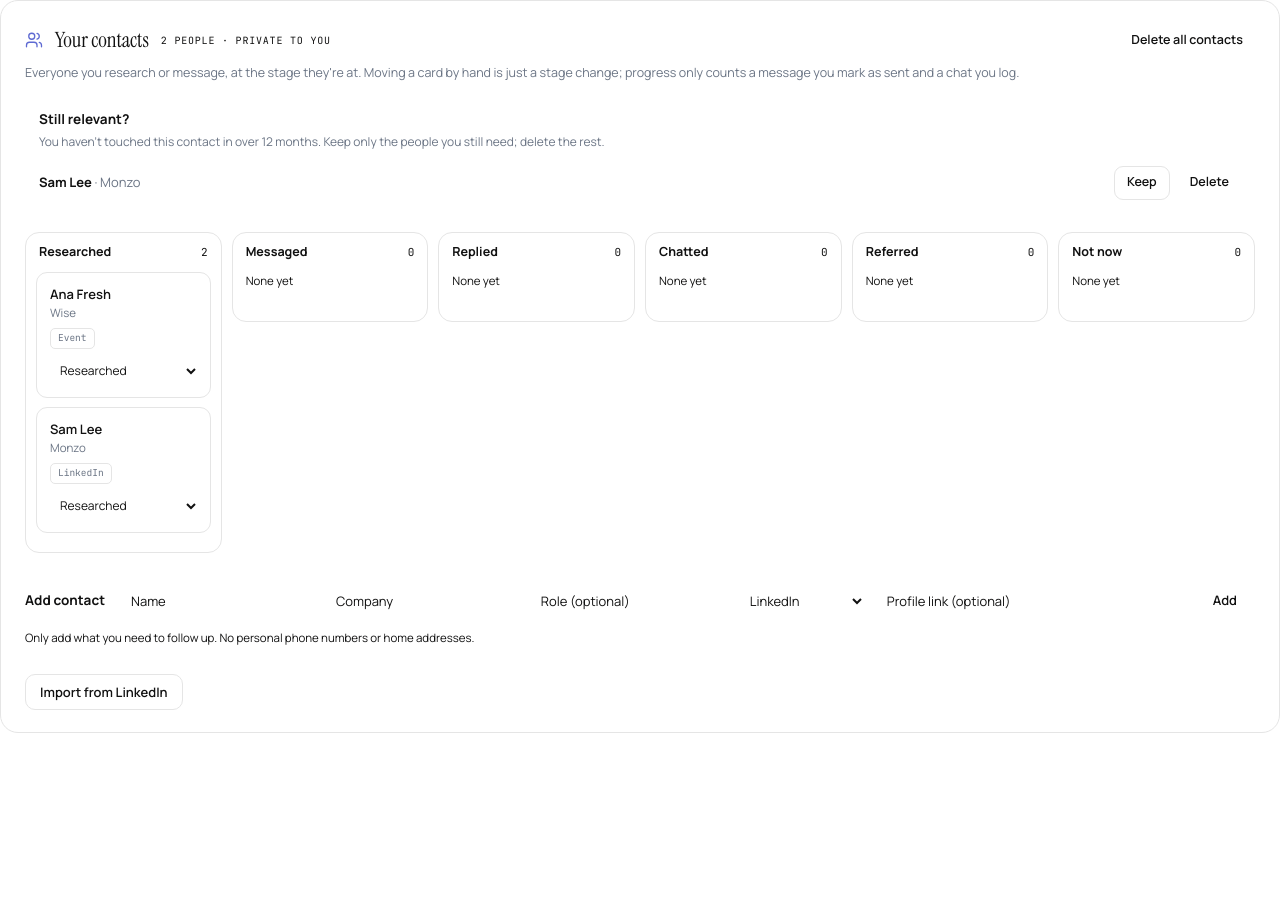
Test: Still relevant? card › Keep bumps updatedAt, changes nothing else, and dismisses the card
What coordinates should you click on to do the following:
click the button with aria-label "Keep Sam Lee"
I would click on:
 (1142, 183)
Its box is [1114,166,1170,200].
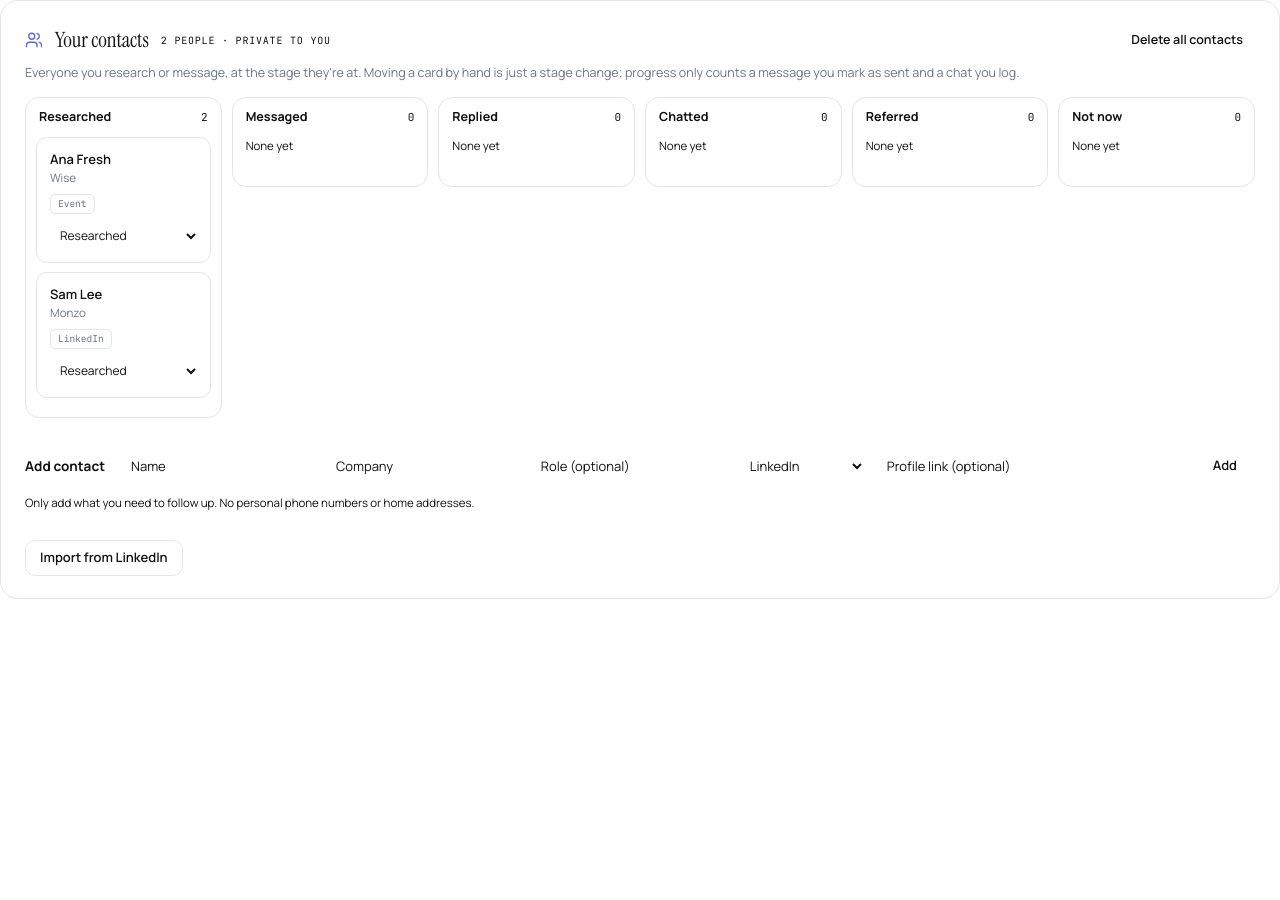
Result: the heading "Still relevant?" is gone
